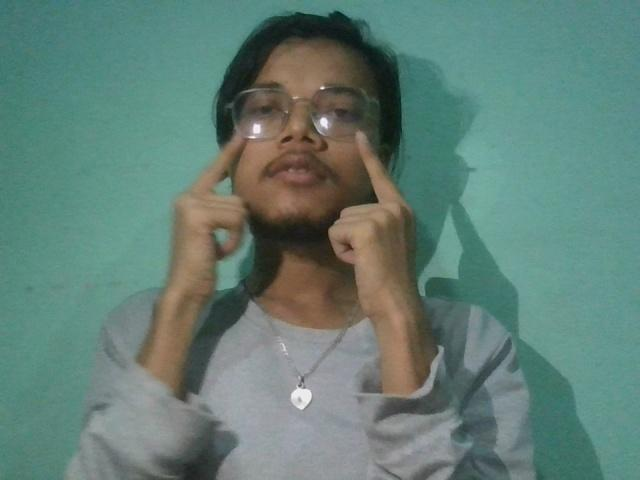Cry: (157, 122, 454, 322)
